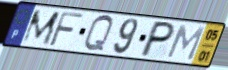9: (111, 17, 141, 56)
F: (47, 10, 85, 49)
M: (165, 24, 207, 63), (19, 9, 62, 47)
P: (137, 20, 178, 59)
Q: (82, 14, 115, 54)
